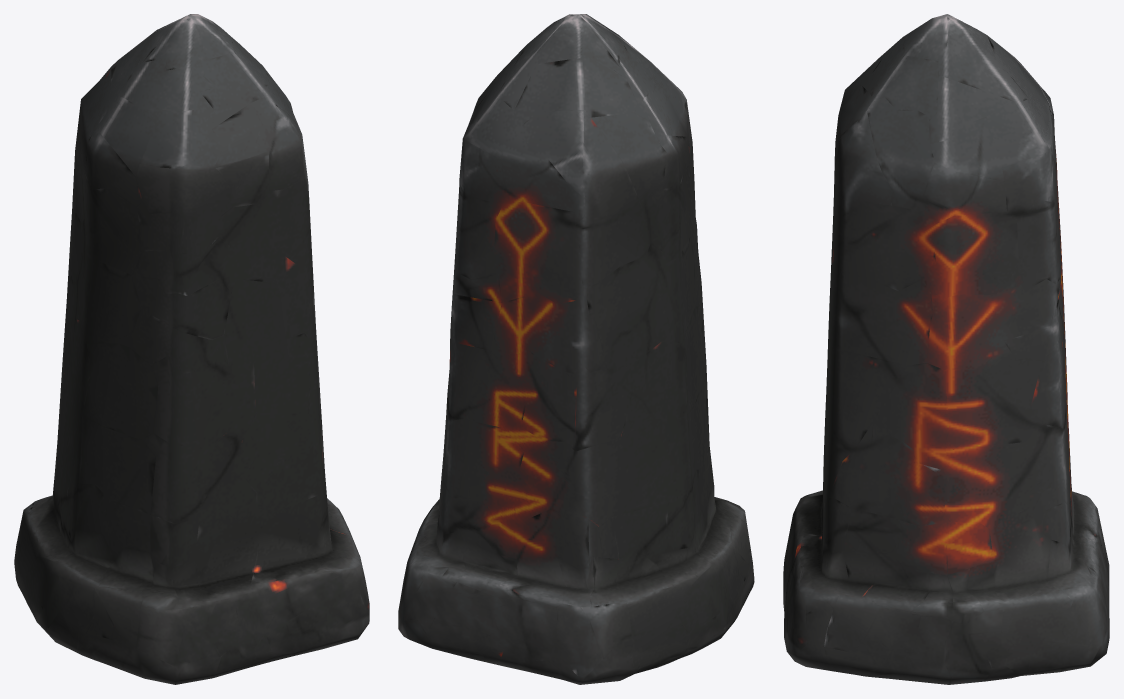
Rendered from rune_pillar.glb.
3 renders of one model, left to right at view 1: azimuth 30°, elevation 25°; view 2: azimuth 150°, elevation 25°; view 3: azimuth 270°, elevation 25°, orthographic.
Bounding box in the file's own units: 1.03 × 2 × 0.9813.
Materials: 1 (1 with a texture image).
